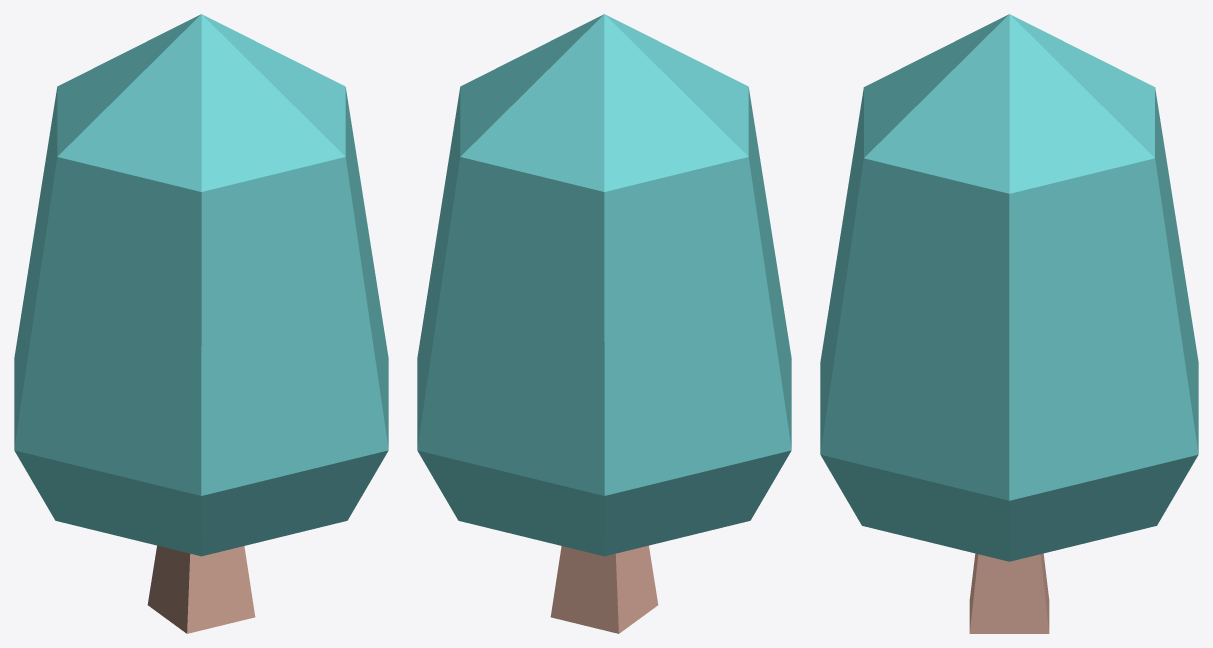
The model's file is tree_fat_darkh.glb.
The picture shows the model from 3 angles, left to right: view 1: azimuth 30°, elevation 25°; view 2: azimuth 150°, elevation 25°; view 3: azimuth 270°, elevation 25°; orthographic projection.
Visible parts, largest first — view 1: tree_fat_darkh; view 2: tree_fat_darkh; view 3: tree_fat_darkh.
Boxes of the visible parts, bbox=[...] form: tree_fat_darkh: bbox=[14, 14, 388, 633]; tree_fat_darkh: bbox=[417, 14, 791, 633]; tree_fat_darkh: bbox=[820, 14, 1198, 633].
Size of the model in its own units: 0.755 by 1.15 by 0.6538.
